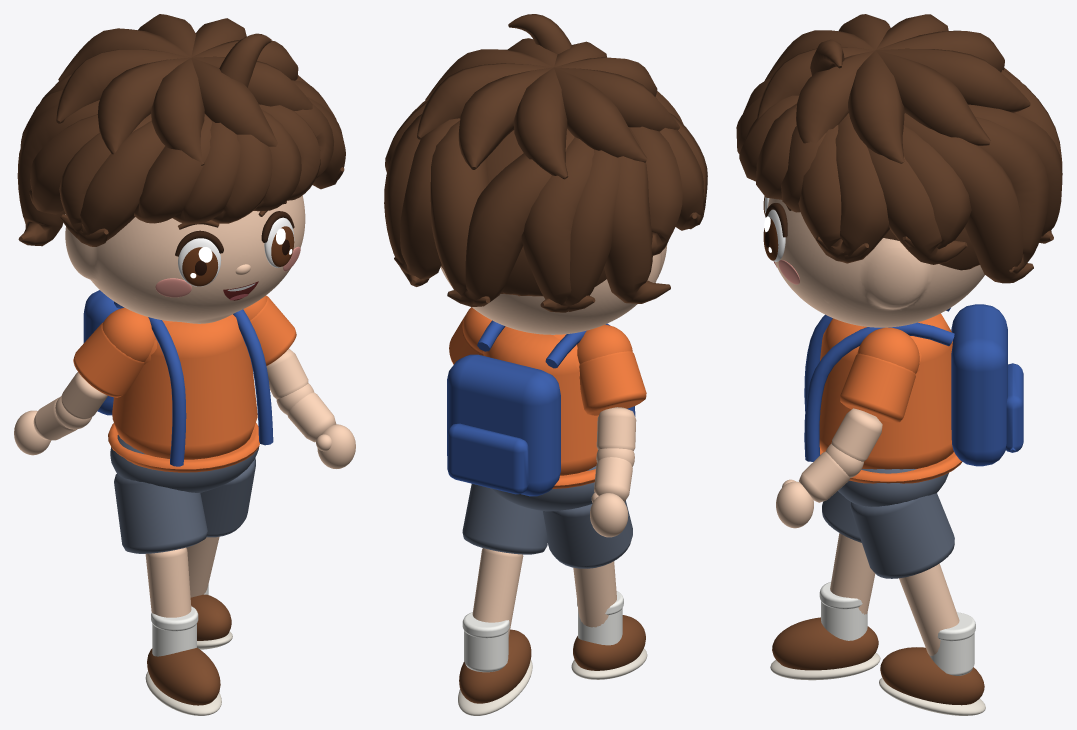
File: karmo_walk.glb
3 renders of one model, left to right at view 1: azimuth 30°, elevation 25°; view 2: azimuth 150°, elevation 25°; view 3: azimuth 270°, elevation 25°, orthographic. The views are drawn at different scales.
Visible parts, largest first — view 1: Head, torso, shortleg-1, lock6, top2, top3, fringe0, lock3, fringe1, top4, top1, lock4 (+37 smaller); view 2: bag, lock0, lock1, lock13, lock3, torso, lock2, Head, bagpocket, lock12, shortleg1, top8 (+34 smaller); view 3: Head, torso, bag, lock11, shortleg1, lock8, top7, lock9, top6, lock12, top8, lock10 (+37 smaller).
Boxes of the visible parts, x1=… form: Head: x1=65, y1=195, x2=305, y2=323; torso: x1=112, y1=314, x2=257, y2=459; shortleg-1: x1=114, y1=473, x2=207, y2=553; lock6: x1=60, y1=121, x2=164, y2=240; top2: x1=97, y1=57, x2=190, y2=154; top3: x1=151, y1=58, x2=204, y2=165; fringe0: x1=134, y1=114, x2=211, y2=223; lock3: x1=17, y1=100, x2=99, y2=246; fringe1: x1=172, y1=121, x2=240, y2=224; top4: x1=191, y1=58, x2=277, y2=146; top1: x1=56, y1=49, x2=190, y2=123; lock4: x1=29, y1=114, x2=99, y2=214; bag: x1=447, y1=354, x2=560, y2=496; lock0: x1=447, y1=129, x2=574, y2=307; lock1: x1=521, y1=137, x2=595, y2=311; lock13: x1=430, y1=120, x2=490, y2=306; lock3: x1=604, y1=127, x2=670, y2=303; torso: x1=484, y1=326, x2=598, y2=475; lock2: x1=540, y1=149, x2=620, y2=312; Head: x1=440, y1=244, x2=667, y2=334; bagpocket: x1=447, y1=423, x2=528, y2=494; lock12: x1=394, y1=118, x2=460, y2=279; shortleg1: x1=462, y1=484, x2=547, y2=554; top8: x1=458, y1=67, x2=553, y2=169; Head: x1=768, y1=198, x2=984, y2=327; torso: x1=819, y1=313, x2=953, y2=469; bag: x1=951, y1=304, x2=1007, y2=466; lock11: x1=904, y1=113, x2=1033, y2=283; shortleg1: x1=850, y1=493, x2=954, y2=578; lock8: x1=816, y1=113, x2=889, y2=263; top7: x1=876, y1=50, x2=990, y2=145; lock9: x1=867, y1=147, x2=967, y2=264; top6: x1=848, y1=50, x2=904, y2=163; lock12: x1=975, y1=116, x2=1048, y2=273; top8: x1=876, y1=48, x2=1030, y2=112; lock10: x1=902, y1=125, x2=971, y2=249.
Size of the model in its own units: 0.5427 by 1.18 by 0.5179.
